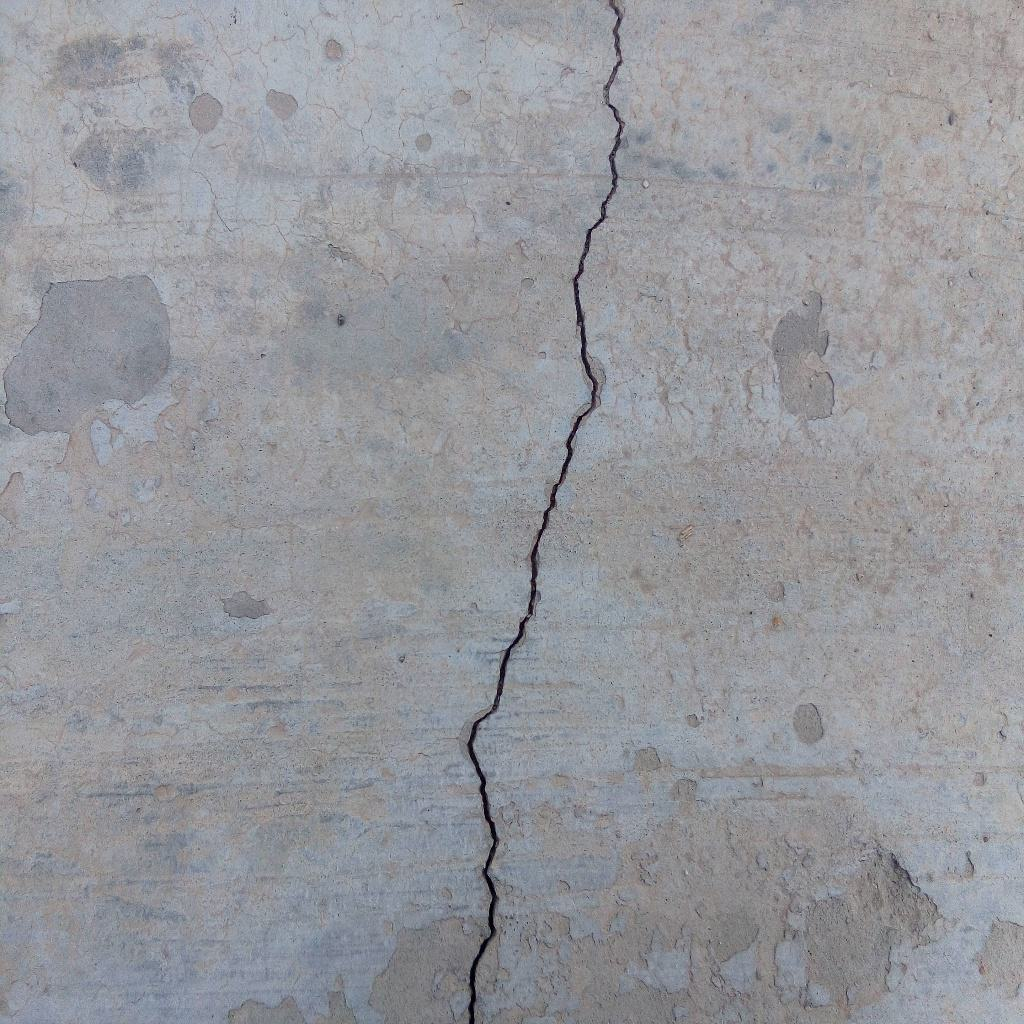Crack: (462, 1, 628, 1024)
Spalling: (221, 775, 942, 1024), (1, 274, 172, 436), (770, 290, 836, 421), (971, 915, 1024, 1024), (218, 590, 275, 619), (188, 92, 224, 135), (793, 702, 824, 744), (265, 88, 299, 122), (632, 746, 663, 775), (763, 579, 786, 604), (324, 37, 344, 60), (414, 130, 433, 154), (451, 89, 472, 106), (685, 713, 703, 728)
